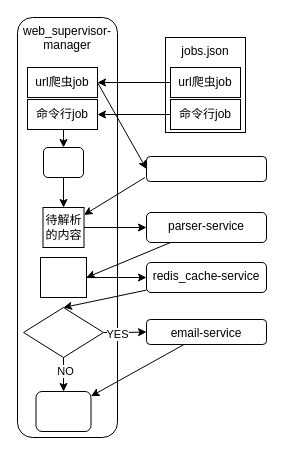
Image size: 284x455. Some labels were removed from this diagram. The shapes that lost their labels are listed below. From the top down, each one's box as (x1, y1, x2, y2) in pixels, then its label:
(42, 146, 84, 178): 执行命令行
(146, 156, 266, 182): crawler-service
(40, 256, 86, 298): 待监控的内容
(22, 306, 104, 358): 内容是否变动
(35, 390, 91, 432): 执行下一个任务
